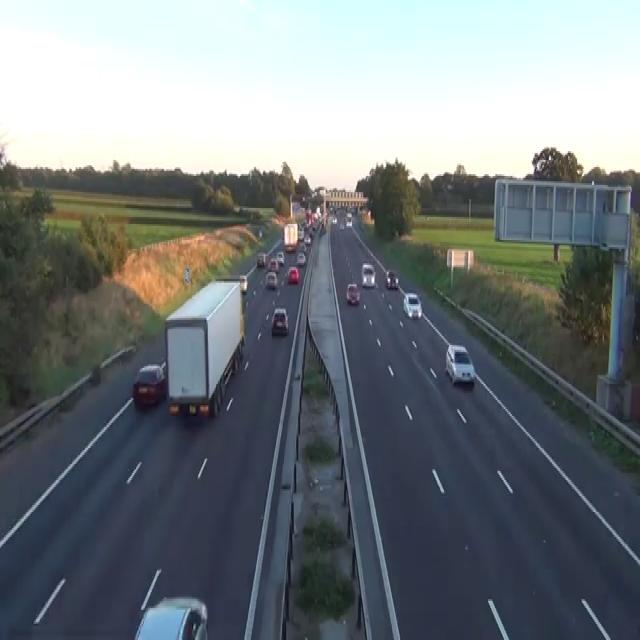Car: (133, 596, 208, 638), (132, 361, 166, 405), (444, 343, 475, 384), (403, 292, 422, 318), (271, 308, 288, 334), (361, 263, 375, 286), (385, 268, 399, 290), (346, 283, 360, 304), (88, 363, 100, 384), (287, 265, 299, 283), (265, 270, 277, 288), (256, 250, 266, 266), (268, 258, 279, 272), (239, 274, 247, 293), (296, 251, 306, 265), (160, 359, 166, 379), (276, 251, 284, 265), (285, 244, 295, 252), (298, 228, 304, 240), (298, 244, 306, 252), (233, 204, 240, 213), (321, 222, 326, 233), (304, 234, 310, 243), (329, 203, 334, 213), (346, 218, 352, 226), (332, 215, 337, 224), (339, 222, 344, 230), (346, 212, 352, 218), (259, 230, 262, 237)
Truck: (164, 279, 245, 420), (283, 222, 298, 251)
